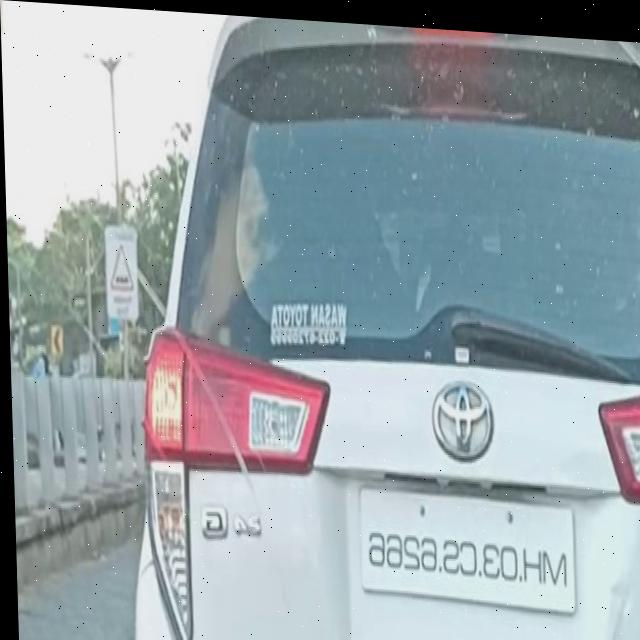plate: (351, 476, 578, 615)
